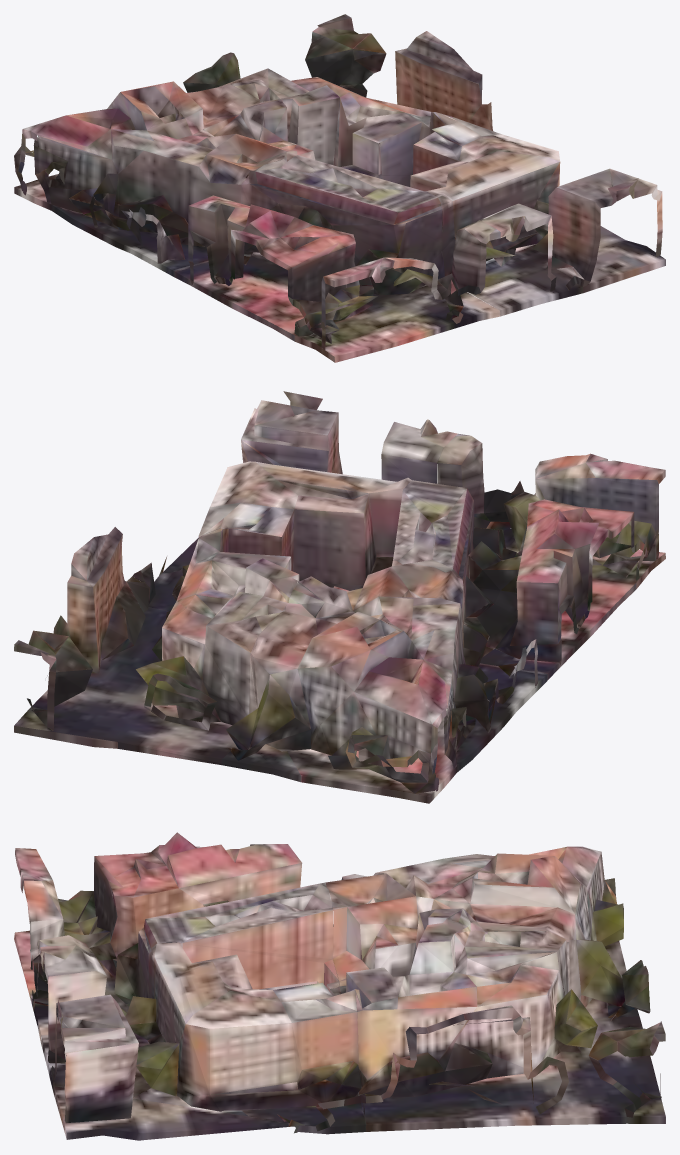
3 renders of one model, top to bottom at view 1: azimuth 30°, elevation 25°; view 2: azimuth 150°, elevation 25°; view 3: azimuth 270°, elevation 25°, orthographic. The views are drawn at different scales.
Visible parts, largest first — view 1: Mesh_0; view 2: Mesh_0; view 3: Mesh_0.
Boxes of the visible parts, <box> form: Mesh_0: <box>14,14,665,362</box>; Mesh_0: <box>14,391,665,803</box>; Mesh_0: <box>14,832,665,1140</box>.
Size of the model in its own units: 133 by 35.44 by 165.
1 material, 1 textured.
